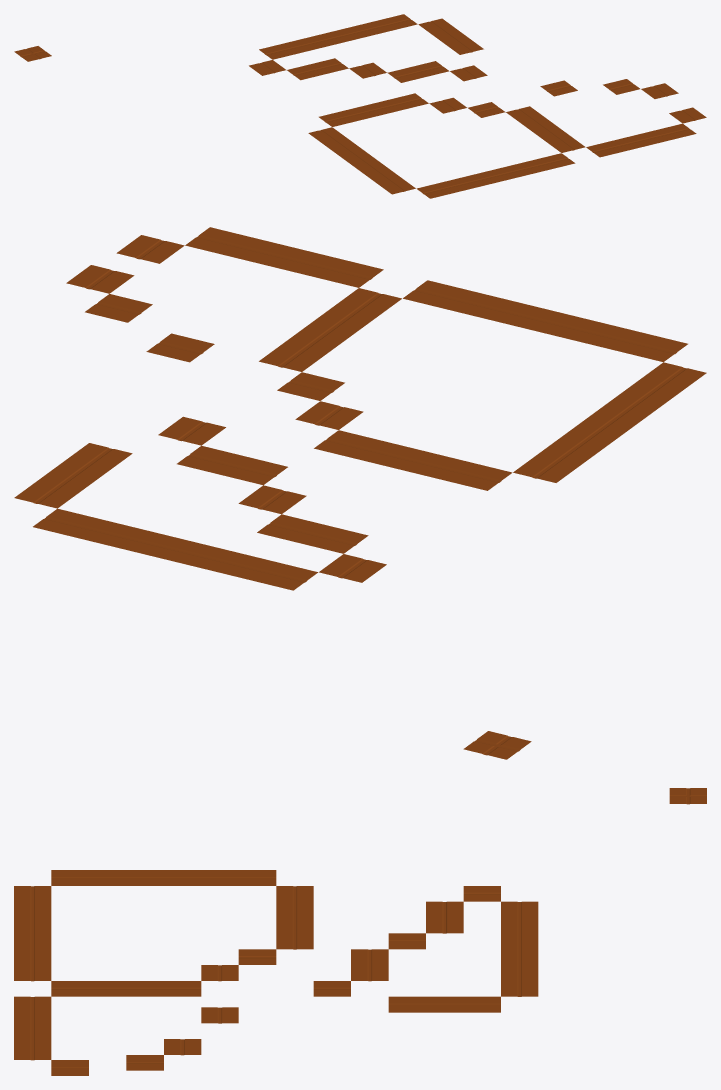
The model's file is Terrain_Part_Plane_8.glb.
3 renders of one model, top to bottom at view 1: azimuth 30°, elevation 25°; view 2: azimuth 150°, elevation 25°; view 3: azimuth 270°, elevation 25°, orthographic. The views are drawn at different scales.
Parts seen in each view (by area): view 1: Terrain_Part_Plane_8.047; view 2: Terrain_Part_Plane_8.047; view 3: Terrain_Part_Plane_8.047.
Boxes of the visible parts, <box> form: Terrain_Part_Plane_8.047: <box>14,14,706,198</box>; Terrain_Part_Plane_8.047: <box>14,227,706,759</box>; Terrain_Part_Plane_8.047: <box>14,788,706,1075</box>.
Size of the model in its own units: 370 by 6.2 by 370.
